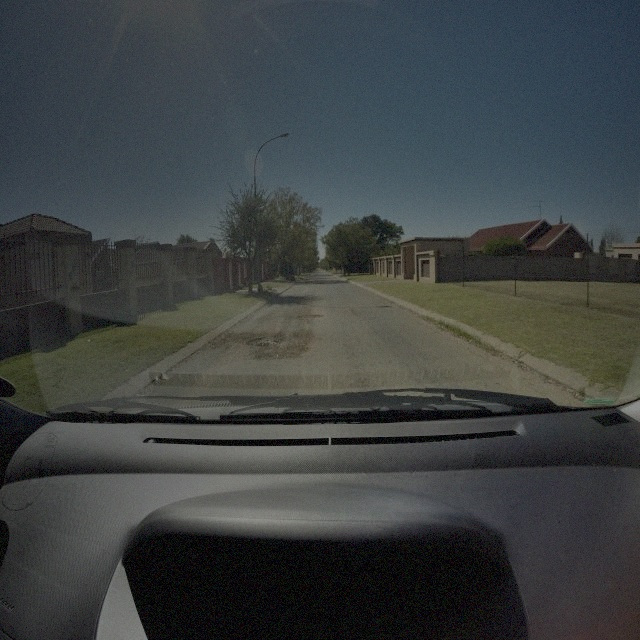pothole: (246, 338, 278, 346), (302, 314, 322, 322)
